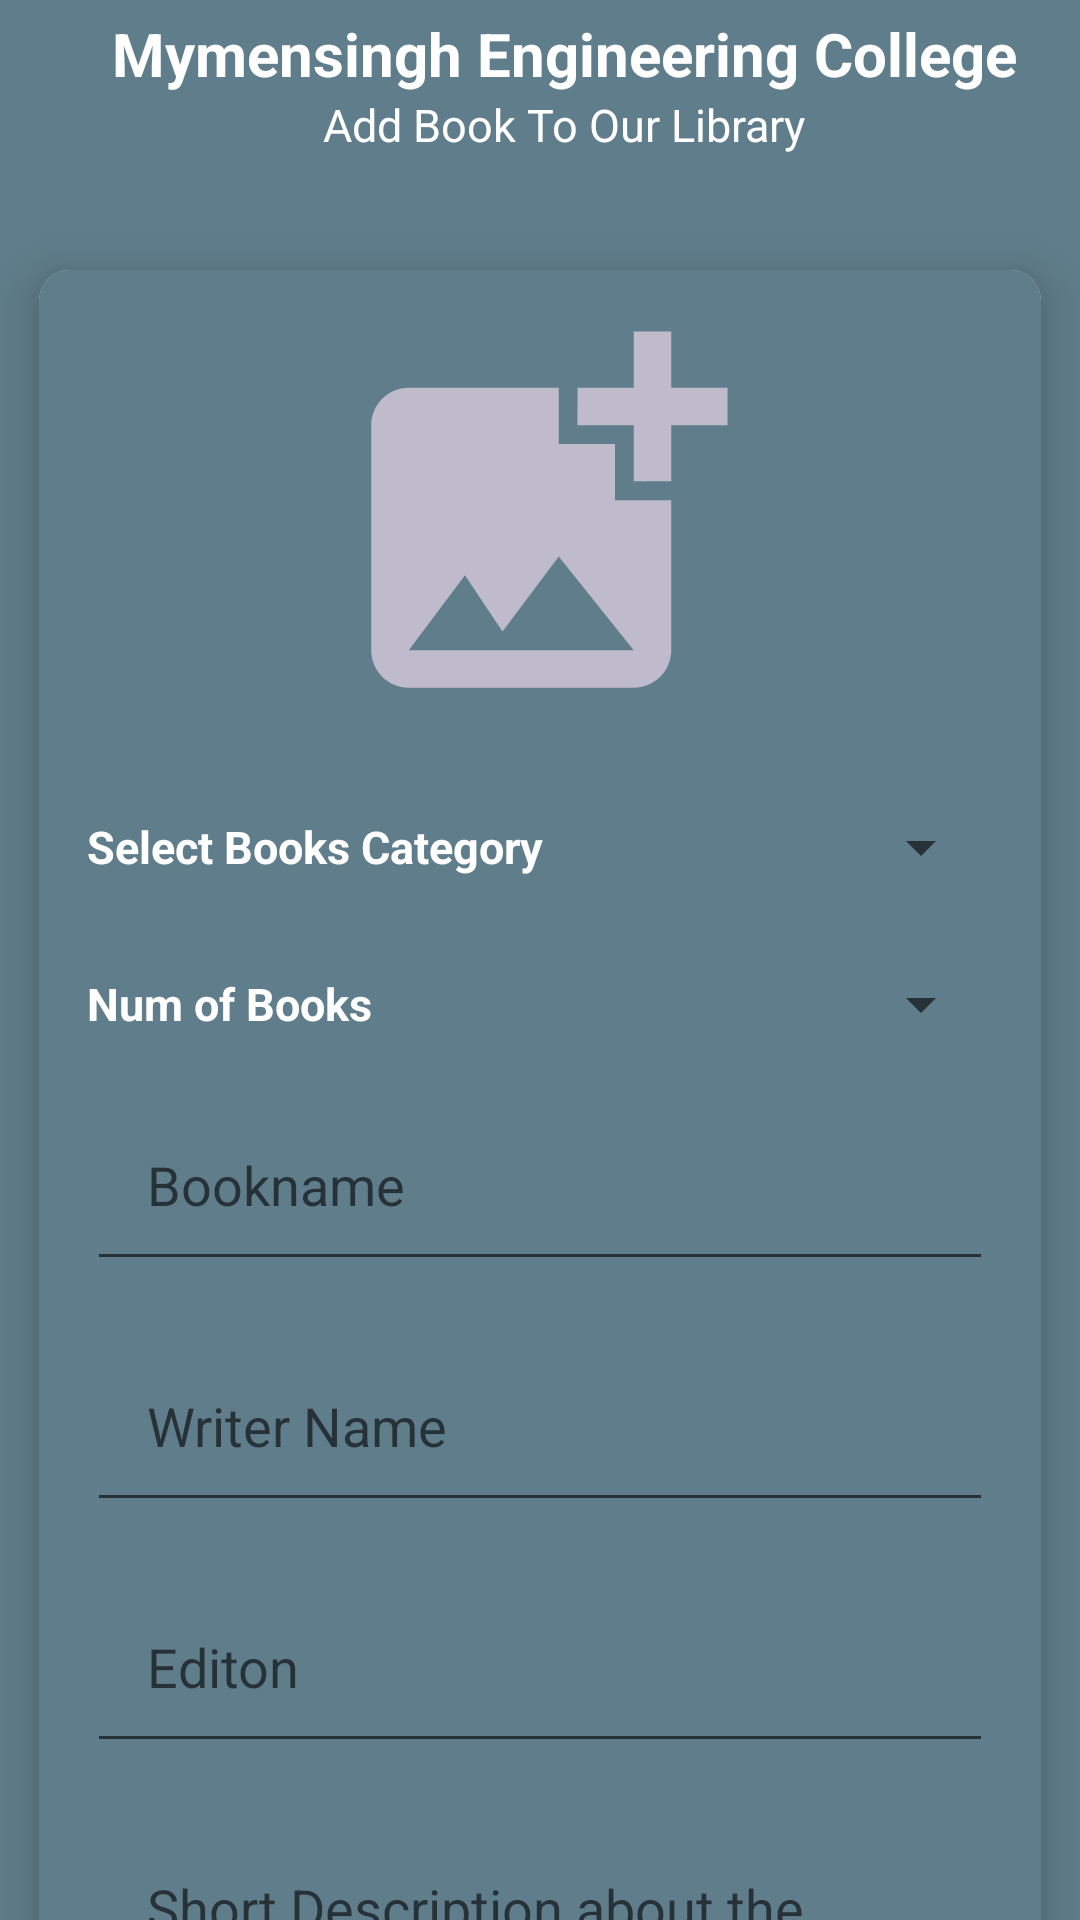

Icon click points for this 1080x1920 phone screenshot, format point (x, y):
add photo alternate: point (549, 509)
